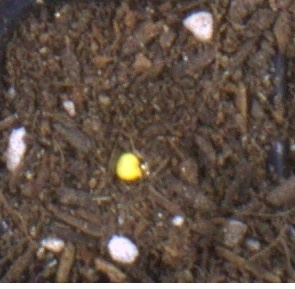chilli seed: (115, 152, 142, 179)
